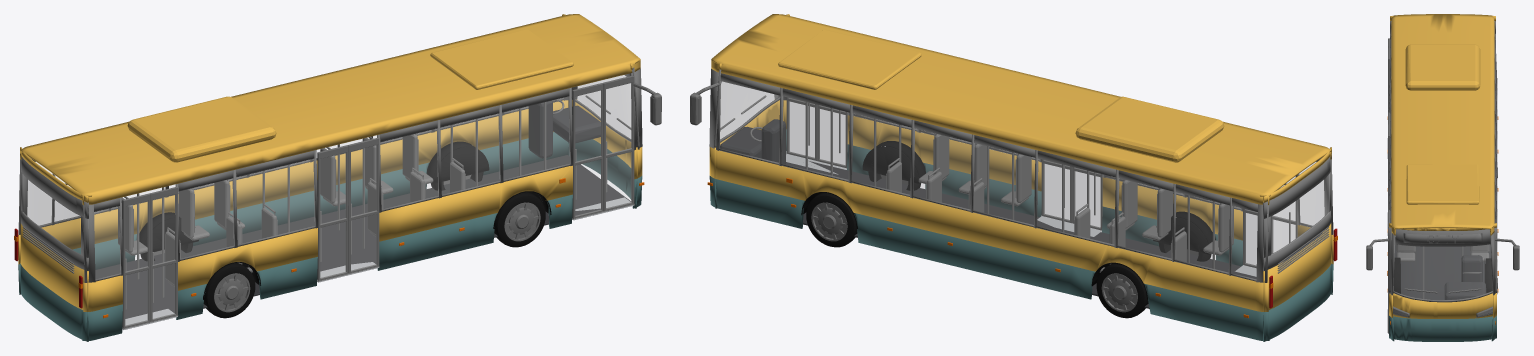
The model's file is citybus.glb.
The picture shows the model from 3 angles, left to right: view 1: azimuth 30°, elevation 25°; view 2: azimuth 150°, elevation 25°; view 3: azimuth 270°, elevation 25°; orthographic projection. The views are drawn at different scales.
Visible parts, largest first — view 1: lower side -1 0 paint, side glazing -1 0, side glazing -1 0 sill, lower side -1 0 paint2, low passenger floor, warm pale passenger ceiling, rear door yellow grab 0, dark wheel arch return 3.18 -1, rear.right tyre, rear.right silver rim lip, seat cushion hint 0 -1, rear low level door threshold; view 2: lower side -1 0 paint, side glazing -1 0, lower side -1 0 paint2, side glazing -1 0 sill, warm pale passenger ceiling, low passenger floor, dark wheel arch return 3.18 -1, rear.right tyre, rear door yellow grab 0, rear.right silver rim lip, seat cushion hint 0 -1, rear low level door threshold; view 3: lower side -1 0 paint, side glazing -1 0, side glazing -1 0 sill, low passenger floor, lower side -1 0 paint2, dark wheel arch return 3.18 -1, seat cushion hint 0 -1, rear door yellow grab 0, warm pale passenger ceiling.
Part boxes in pixels (bbox=[...]): lower side -1 0 paint: bbox=[18, 14, 642, 311]; side glazing -1 0: bbox=[22, 75, 631, 325]; side glazing -1 0 sill: bbox=[18, 67, 661, 328]; lower side -1 0 paint2: bbox=[18, 132, 642, 341]; low passenger floor: bbox=[95, 100, 631, 318]; warm pale passenger ceiling: bbox=[118, 133, 464, 285]; rear door yellow grab 0: bbox=[65, 102, 634, 328]; dark wheel arch return 3.18 -1: bbox=[139, 141, 551, 299]; rear.right tyre: bbox=[140, 157, 545, 318]; rear.right silver rim lip: bbox=[214, 96, 653, 312]; seat cushion hint 0 -1: bbox=[125, 139, 465, 286]; rear low level door threshold: bbox=[122, 197, 634, 329]; lower side -1 0 paint: bbox=[709, 14, 1333, 311]; side glazing -1 0: bbox=[719, 81, 1329, 279]; lower side -1 0 paint2: bbox=[709, 129, 1333, 341]; side glazing -1 0 sill: bbox=[690, 68, 1333, 309]; warm pale passenger ceiling: bbox=[887, 133, 1233, 264]; low passenger floor: bbox=[720, 119, 1256, 308]; dark wheel arch return 3.18 -1: bbox=[801, 141, 1215, 299]; rear.right tyre: bbox=[806, 146, 1211, 318]; rear door yellow grab 0: bbox=[805, 102, 1290, 268]; rear.right silver rim lip: bbox=[698, 96, 1137, 312]; seat cushion hint 0 -1: bbox=[886, 139, 1229, 272]; rear low level door threshold: bbox=[786, 154, 1256, 276]; lower side -1 0 paint: bbox=[1389, 14, 1496, 318]; side glazing -1 0: bbox=[1389, 50, 1496, 300]; side glazing -1 0 sill: bbox=[1366, 21, 1519, 332]; low passenger floor: bbox=[1394, 244, 1491, 300]; lower side -1 0 paint2: bbox=[1389, 315, 1496, 341]; dark wheel arch return 3.18 -1: bbox=[1394, 257, 1497, 293]; seat cushion hint 0 -1: bbox=[1396, 244, 1489, 261]; rear door yellow grab 0: bbox=[1387, 138, 1463, 332]; warm pale passenger ceiling: bbox=[1396, 244, 1489, 252].
Bounding box in the file's own units: 12.05 × 3.43 × 3.62.
